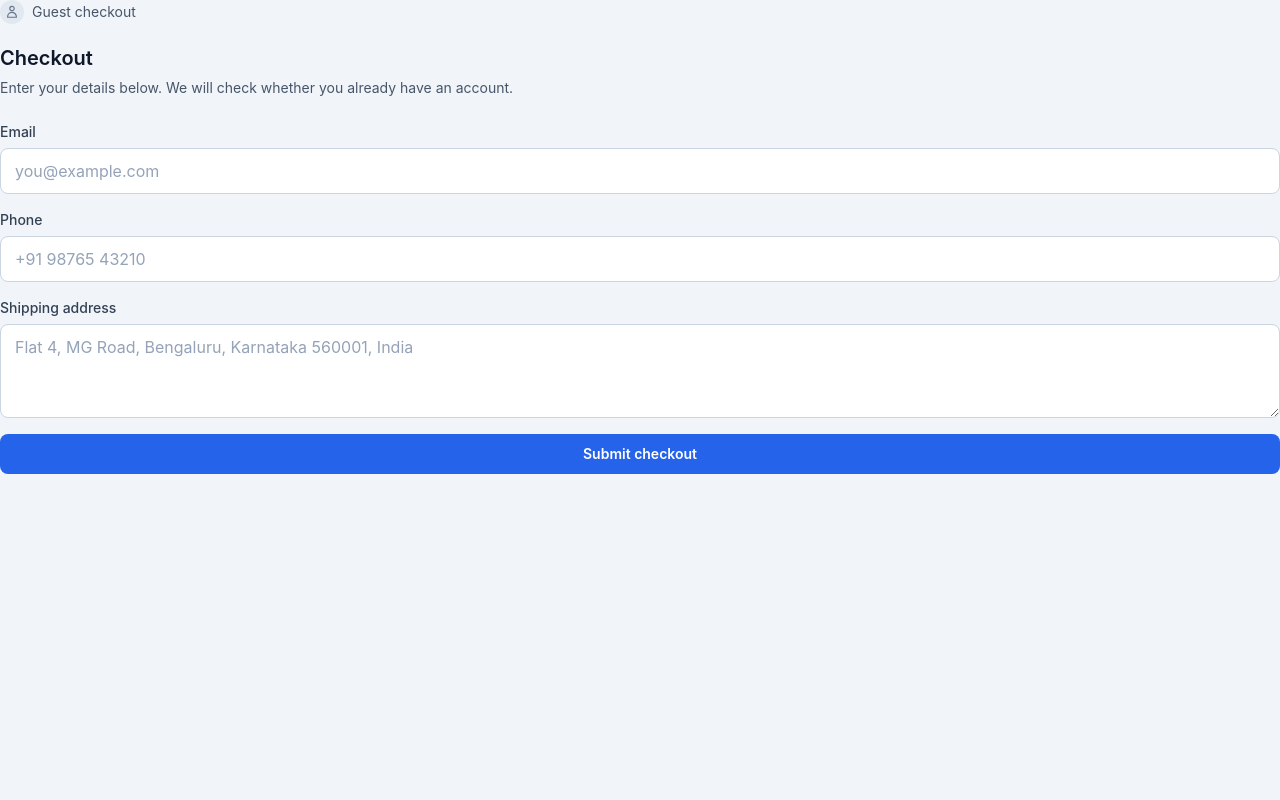
Test: CheckoutForm › keeps the modal open and shows an error for an incorrect code
Type "vijay@example.com" into the field labelled "Email" at (640, 171), box [0,148,1279,194]
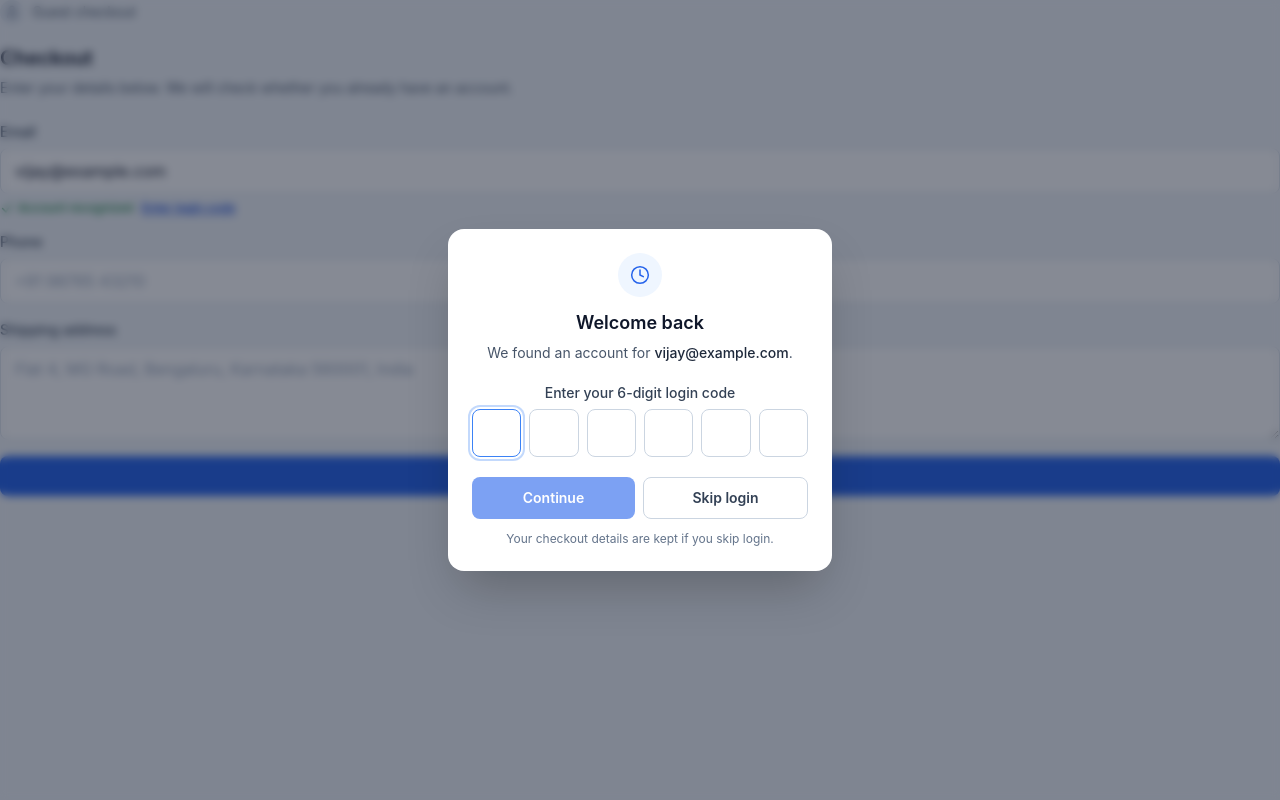
Expected: the dialog is shown, [448,229,832,571]
Type "111111" into the field named "login code digit 1 of 6" at (497, 433), box [472,409,521,457]
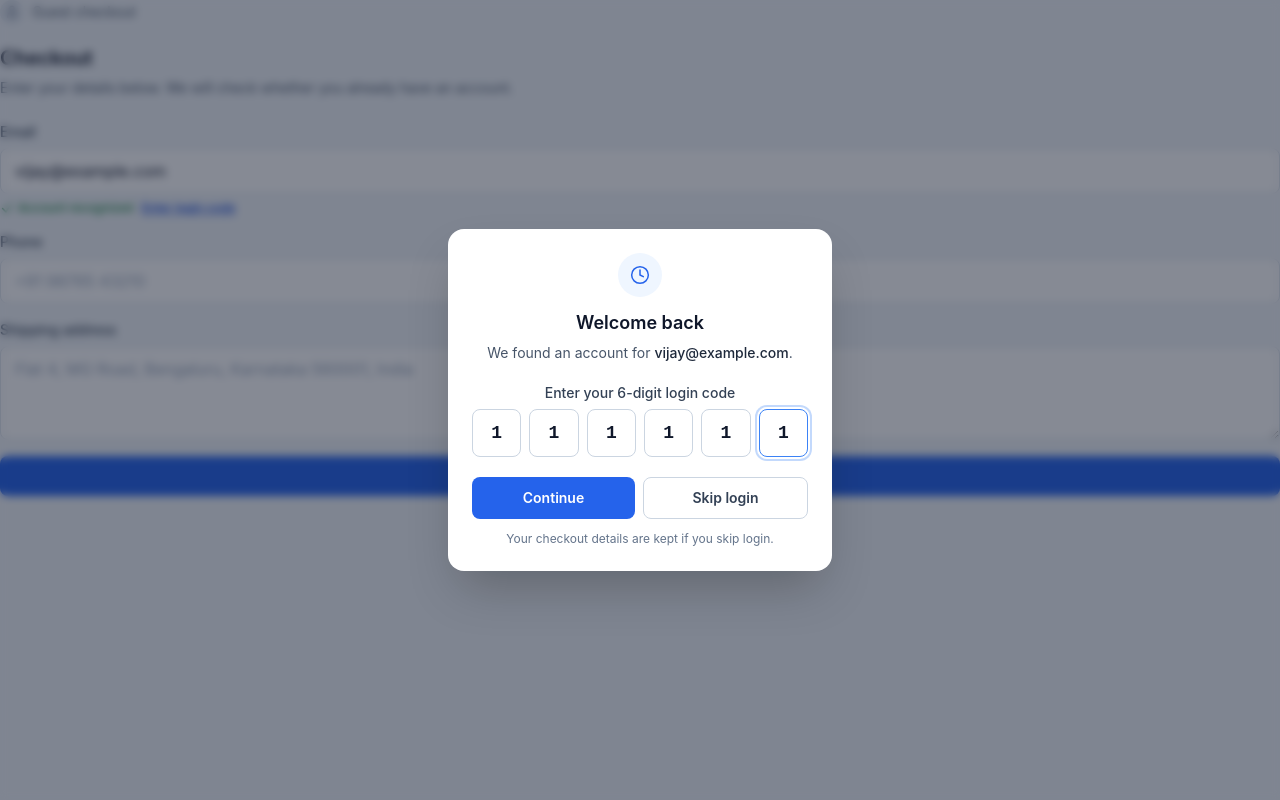
Click the button "Continue" at (554, 498), box [472,477,635,519]
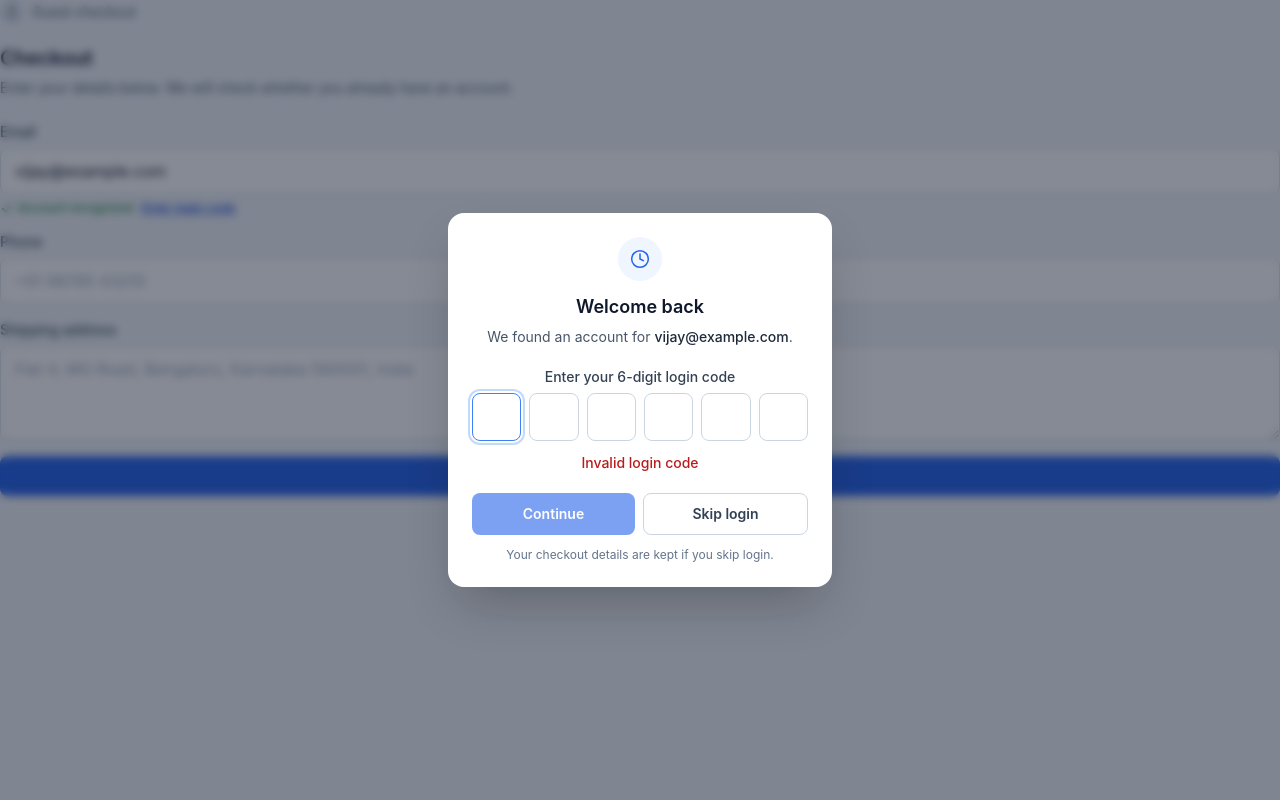
Expected: the dialog is shown, [448,213,832,587]
Expected: the message reads "Invalid login code", [581,454,698,471]
